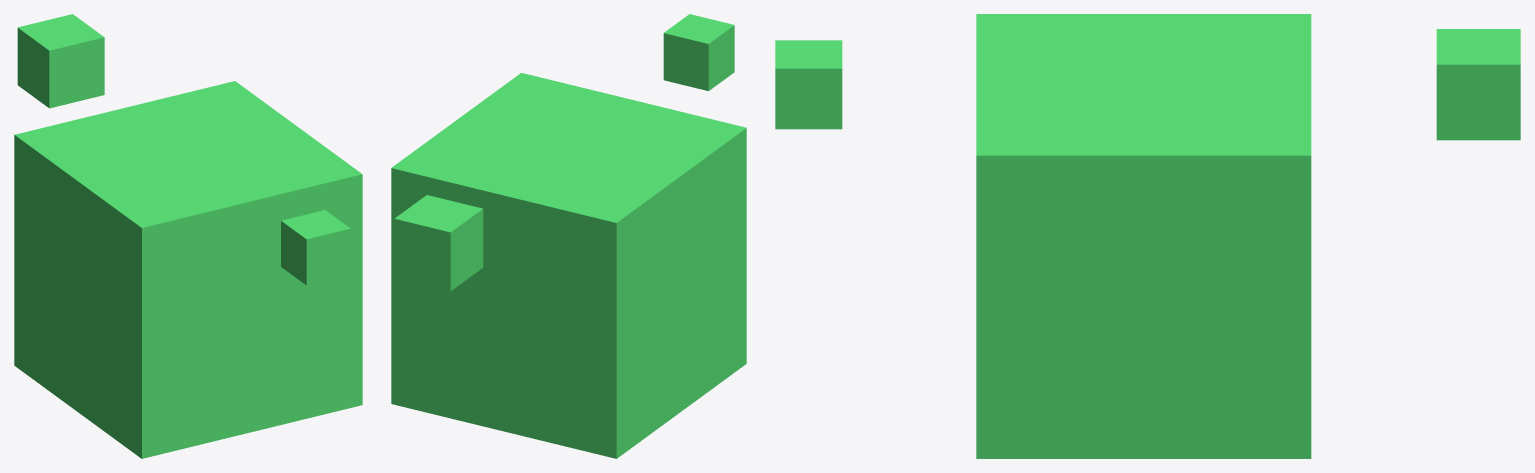
File: mesh-parent.gltf
3 views of the same model, side by side, from view 1: azimuth 30°, elevation 25°; view 2: azimuth 150°, elevation 25°; view 3: azimuth 270°, elevation 25° (orthographic). The views are drawn at different scales.
Parts seen in each view (by area): view 1: Body, Lamp, Bulb; view 2: Body, Lamp, Bulb; view 3: Body, Lamp, Bulb.
Boxes of the visible parts, box(x1,y1,x2,y2) form: Body: box(14, 81, 362, 458); Lamp: box(17, 14, 104, 108); Bulb: box(281, 210, 350, 285); Body: box(391, 73, 746, 458); Lamp: box(394, 195, 483, 291); Bulb: box(663, 14, 734, 90); Body: box(976, 14, 1311, 458); Lamp: box(1436, 29, 1520, 140); Bulb: box(775, 40, 842, 129).
Size of the model in its own units: 2 by 2.25 by 4.45.
